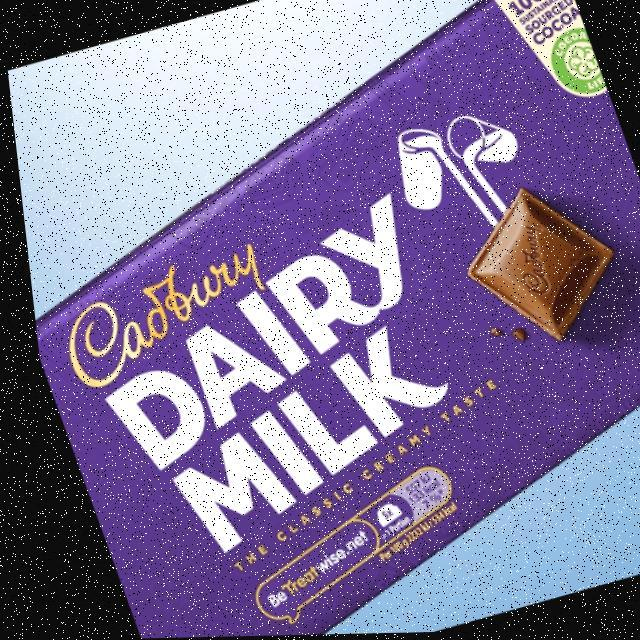cadbury_chocolate: (58, 22, 600, 623)
